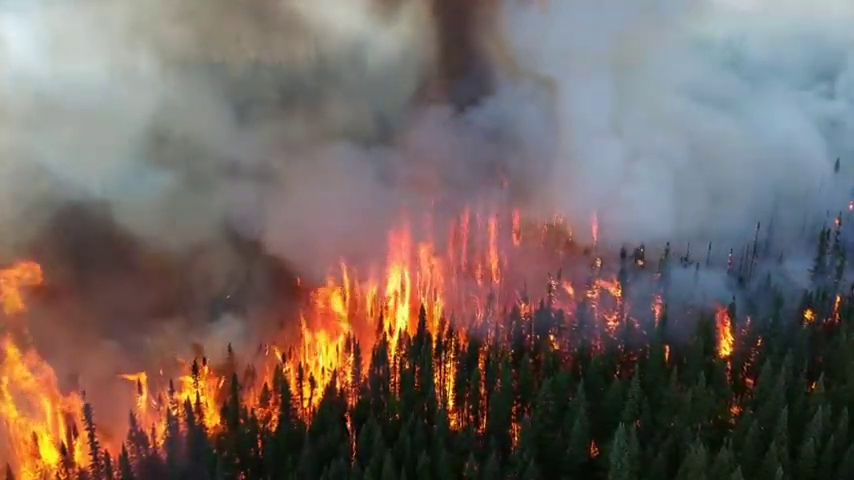forest_fire: (118, 207, 665, 444), (0, 260, 95, 479), (429, 354, 468, 426), (715, 306, 736, 357), (101, 439, 120, 456), (392, 368, 402, 384), (632, 258, 637, 264), (87, 405, 90, 414), (478, 423, 482, 426), (268, 413, 272, 416), (479, 357, 482, 360), (117, 435, 121, 437), (591, 446, 593, 447), (479, 419, 481, 420), (89, 419, 90, 420)
